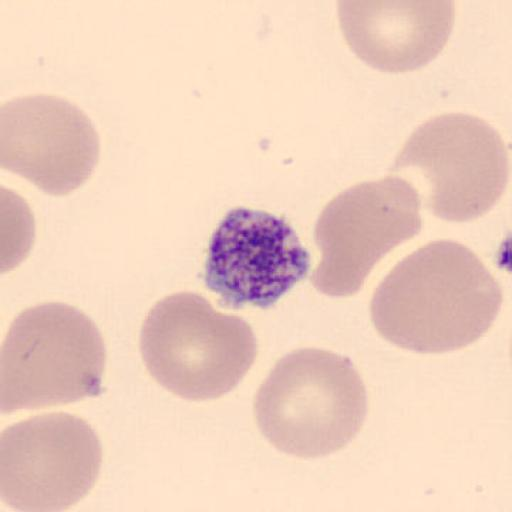Platelet: (198, 205, 317, 311)
RBC: (368, 238, 506, 356), (137, 287, 260, 404), (310, 176, 424, 300), (251, 344, 371, 461), (388, 111, 511, 225), (1, 299, 109, 412), (2, 409, 105, 512), (2, 92, 102, 197), (335, 0, 457, 76), (1, 184, 37, 276)
